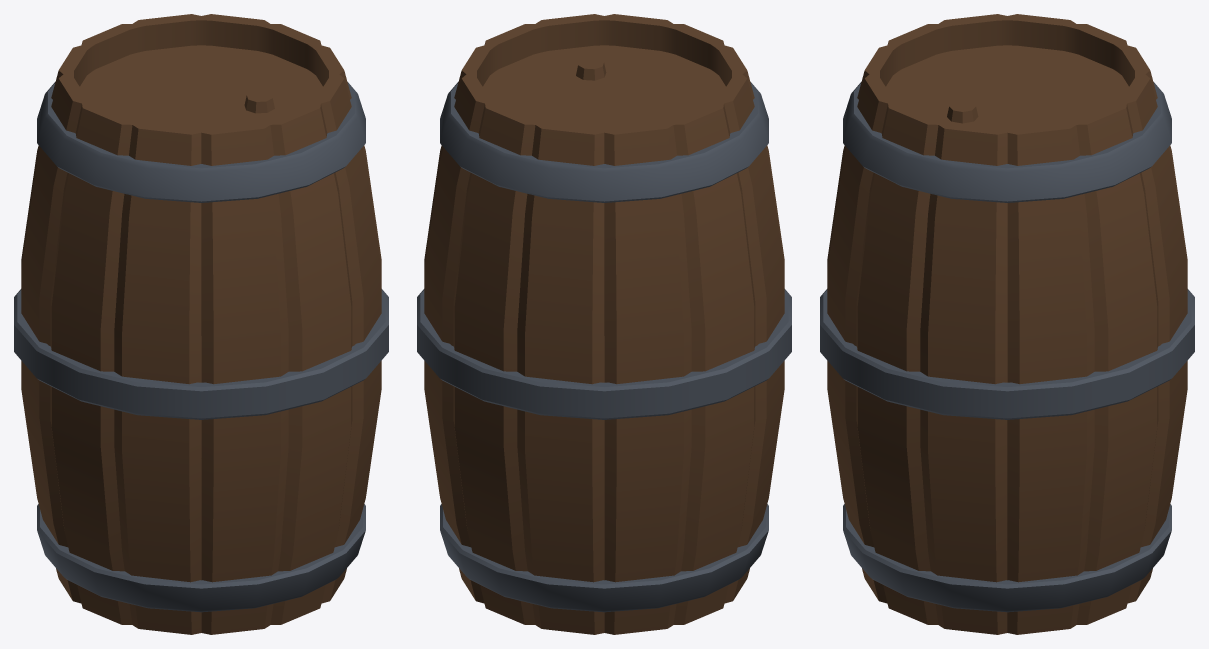
File: Barrel.fbx
3 renders of one model, left to right at view 1: azimuth 30°, elevation 25°; view 2: azimuth 150°, elevation 25°; view 3: azimuth 270°, elevation 25°, orthographic.
Visible parts, largest first — view 1: Barrel_Wood, Barrel_Iron; view 2: Barrel_Wood, Barrel_Iron; view 3: Barrel_Wood, Barrel_Iron.
Boxes of the visible parts, x1,y1,x2,y2 form: Barrel_Wood: (21,14,381,634); Barrel_Iron: (14,82,388,612); Barrel_Wood: (424,14,784,634); Barrel_Iron: (417,82,791,612); Barrel_Wood: (827,14,1187,634); Barrel_Iron: (820,82,1194,612).
Size of the model in its own units: 2.21 by 3.2 by 2.17.
